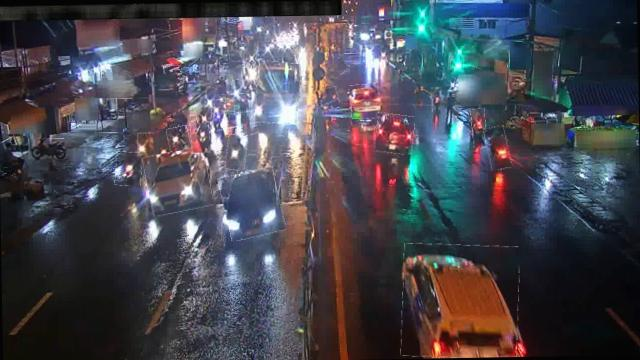Bike: (485, 126, 510, 170), (29, 138, 72, 159), (116, 152, 142, 185), (225, 135, 248, 170), (190, 120, 210, 152), (471, 108, 487, 146), (168, 126, 191, 151), (116, 98, 149, 115), (314, 88, 339, 110), (210, 100, 223, 128), (138, 133, 154, 155), (431, 88, 442, 114), (196, 106, 212, 122), (231, 79, 242, 102), (239, 94, 250, 116), (224, 94, 234, 117), (205, 87, 214, 108), (242, 66, 250, 86)
Car: (400, 242, 520, 358), (144, 148, 212, 214), (220, 168, 282, 238), (375, 113, 415, 154), (349, 82, 380, 118)
Truck: (254, 60, 300, 124)
